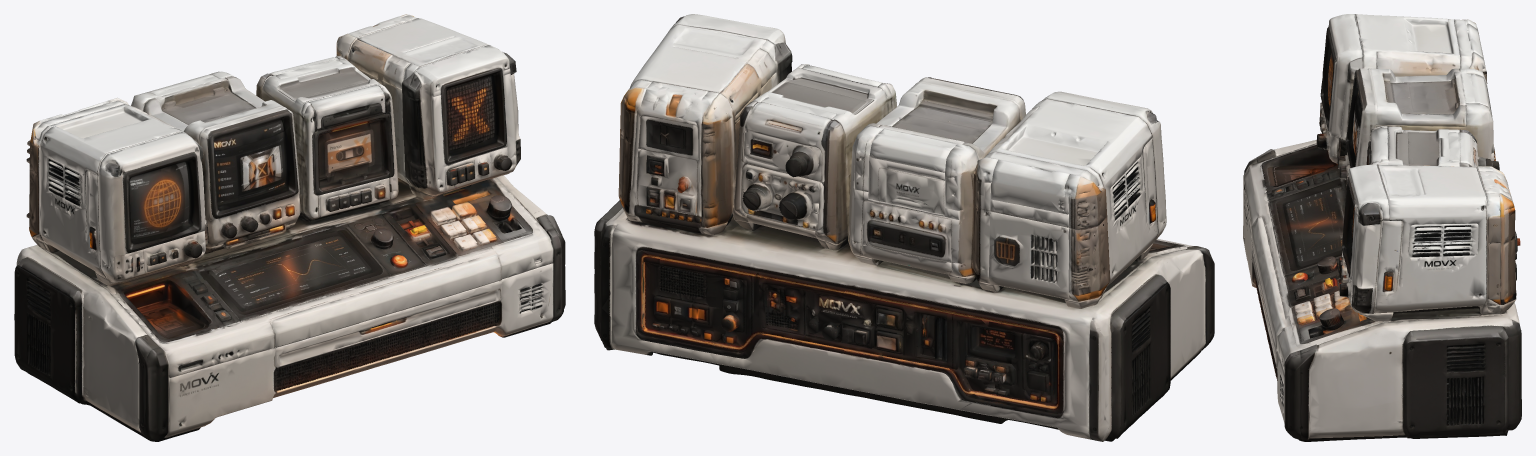
File: movx-creative-machine.glb
The picture shows the model from 3 angles, left to right: view 1: azimuth 30°, elevation 25°; view 2: azimuth 150°, elevation 25°; view 3: azimuth 270°, elevation 25°; orthographic projection. The views are drawn at different scales.
Visible parts, largest first — view 1: tripo_part_1, tripo_part_2, tripo_part_0, tripo_part_3, tripo_part_4, tripo_part_7, tripo_part_14, tripo_part_9, tripo_part_8, tripo_part_5, tripo_part_12; view 2: tripo_part_1, tripo_part_2, tripo_part_0, tripo_part_3, tripo_part_4, tripo_part_15, tripo_part_14, tripo_part_11, tripo_part_13, tripo_part_16, tripo_part_19, tripo_part_10 (+3 smaller); view 3: tripo_part_0, tripo_part_1, tripo_part_6, tripo_part_2, tripo_part_3, tripo_part_7, tripo_part_4, tripo_part_8, tripo_part_9, tripo_part_12, tripo_part_18, tripo_part_5.
Boxes of the visible parts, box(x1,y1,x2,y2) form: tripo_part_1: box(17, 175, 565, 441); tripo_part_2: box(26, 97, 208, 286); tripo_part_0: box(336, 14, 520, 199); tripo_part_3: box(131, 71, 300, 253); tripo_part_4: box(256, 56, 398, 221); tripo_part_7: box(194, 222, 392, 321); tripo_part_14: box(14, 257, 88, 405); tripo_part_9: box(113, 267, 241, 344); tripo_part_8: box(415, 178, 540, 257); tripo_part_5: box(275, 302, 500, 390); tripo_part_12: box(346, 202, 459, 276); tripo_part_1: box(600, 208, 1214, 441); tripo_part_2: box(973, 91, 1166, 308); tripo_part_0: box(618, 14, 792, 235); tripo_part_3: box(848, 77, 1025, 283); tripo_part_4: box(732, 64, 897, 250); tripo_part_15: box(805, 291, 1043, 403); tripo_part_14: box(1105, 275, 1170, 441); tripo_part_11: box(636, 251, 748, 353); tripo_part_13: box(655, 257, 843, 343); tripo_part_16: box(971, 321, 1064, 413); tripo_part_19: box(1089, 319, 1110, 441); tripo_part_10: box(657, 266, 724, 308); tripo_part_0: box(1338, 164, 1520, 321); tripo_part_1: box(1243, 140, 1521, 441); tripo_part_6: box(1403, 324, 1510, 438); tripo_part_2: box(1316, 14, 1487, 163); tripo_part_3: box(1337, 68, 1495, 185); tripo_part_7: box(1268, 178, 1346, 275); tripo_part_4: box(1366, 126, 1499, 170); tripo_part_8: box(1288, 290, 1379, 348); tripo_part_9: box(1260, 143, 1343, 204); tripo_part_12: box(1282, 256, 1341, 308); tripo_part_18: box(1506, 330, 1521, 430); tripo_part_5: box(1255, 274, 1277, 380).
Size of the model in its own units: 0.9798 by 0.5051 by 0.5373.
25 materials, 25 textured.
